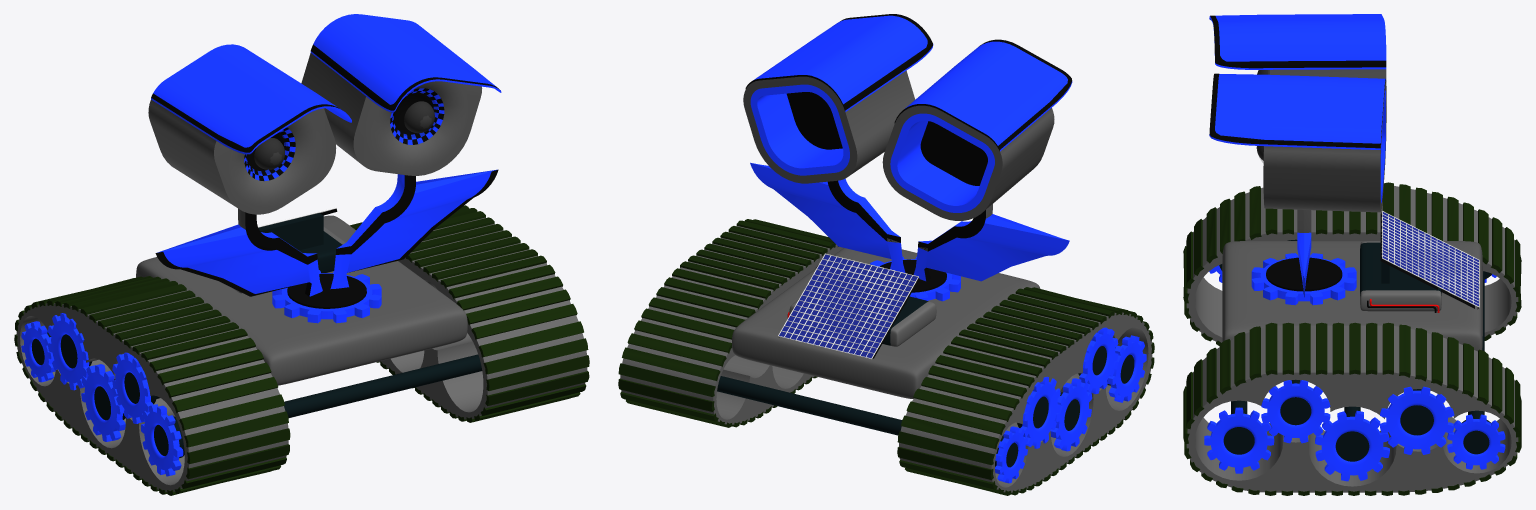
Rendered from robot.glb.
3 views of the same model, side by side, from view 1: azimuth 30°, elevation 25°; view 2: azimuth 150°, elevation 25°; view 3: azimuth 270°, elevation 25° (orthographic). The views are drawn at different scales.
Visible parts, largest first — view 1: Head, Belt, Base, Chassi, x0, Gear.002, Gear.007, Gear.003, Gear.001, SolarPanelSupport, Gear.004, Baterry; view 2: Head, Belt, Base, Chassi, SolarPanel, x2, Gear.002, Gear.003, Gear.007, Baterry, Gear.001, Gear.004; view 3: Head, Base, Belt, Chassi, SolarPanel, Baterry, Gear.002, Gear.003, Gear.007, Gear.001, Gear.004, x1 (+4 smaller).
Boxes of the visible parts, x1,y1,x2,y2 form: Head: (148, 14, 501, 323); Belt: (14, 205, 589, 495); Base: (16, 217, 587, 491); Chassi: (136, 215, 467, 385); x0: (154, 354, 482, 457); Gear.002: (81, 364, 125, 441); Gear.007: (141, 404, 183, 476); Gear.003: (48, 313, 89, 390); Gear.001: (112, 352, 153, 423); SolarPanelSupport: (258, 213, 323, 250); Gear.004: (21, 321, 55, 382); Baterry: (233, 226, 345, 293); Head: (743, 14, 1072, 301); Belt: (618, 219, 1154, 495); Base: (620, 226, 1152, 492); Chassi: (732, 248, 1040, 398); SolarPanel: (778, 253, 919, 359); x2: (717, 376, 1018, 467); Gear.002: (1050, 378, 1092, 451); Gear.003: (1020, 376, 1060, 448); Gear.007: (1107, 335, 1146, 402); Baterry: (789, 296, 936, 346); Gear.001: (1079, 327, 1118, 394); Gear.004: (995, 426, 1027, 483); Head: (1209, 14, 1386, 305); Base: (1186, 186, 1518, 492); Belt: (1183, 182, 1521, 495); Chassi: (1222, 241, 1482, 351); SolarPanel: (1380, 211, 1479, 309); Baterry: (1360, 241, 1441, 311); Gear.002: (1315, 410, 1389, 481); Gear.003: (1380, 386, 1454, 454); Gear.007: (1204, 265, 1274, 473); Gear.001: (1261, 380, 1330, 443); Gear.004: (1447, 274, 1505, 469); x1: (1335, 406, 1369, 461).
Size of the model in its own units: 8.11 by 7.01 by 6.12.
